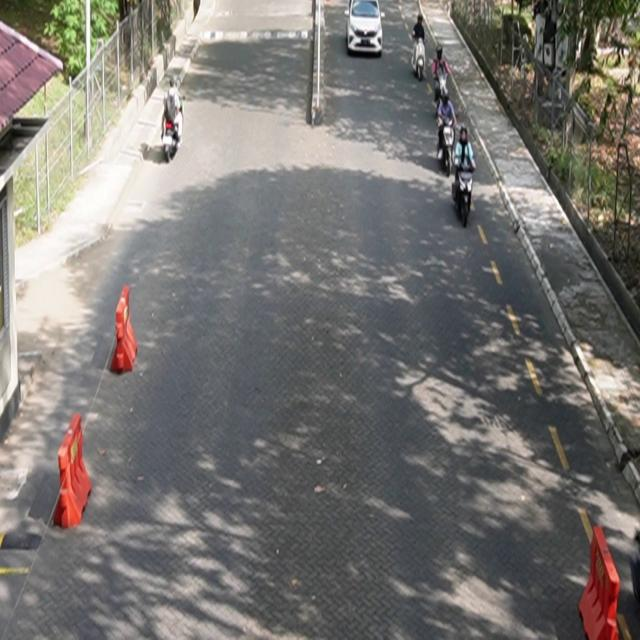car: (345, 1, 383, 57)
